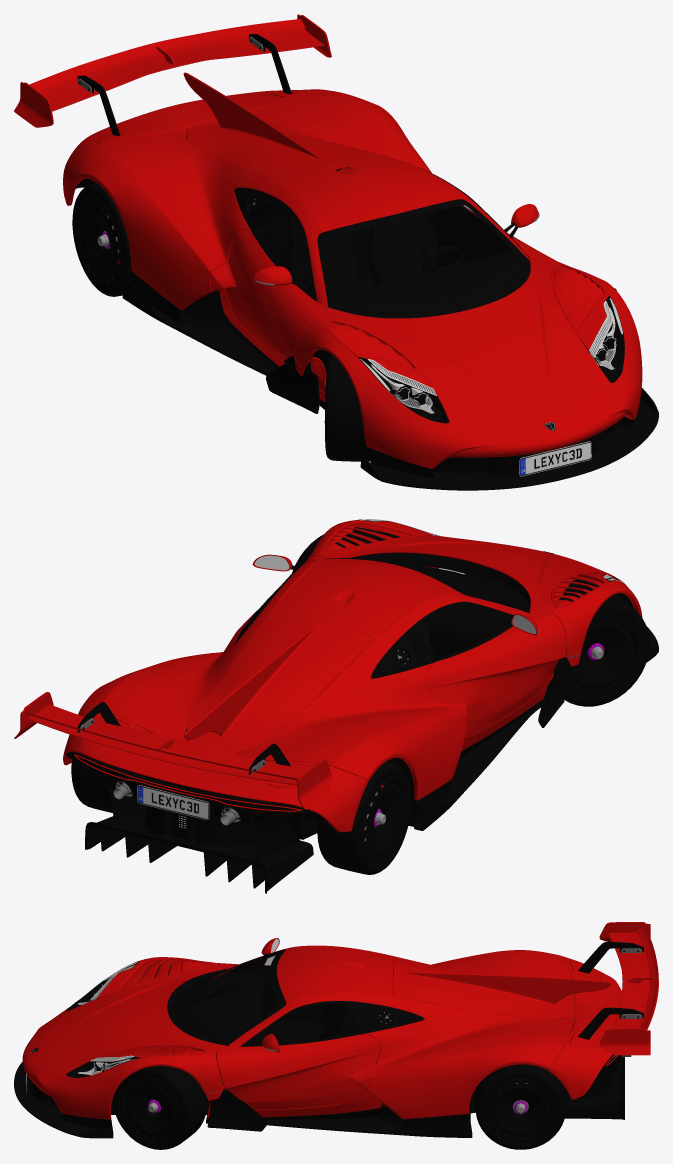
The model's file is rossa-lm.glb.
3 renders of one model, top to bottom at view 1: azimuth 30°, elevation 25°; view 2: azimuth 150°, elevation 25°; view 3: azimuth 270°, elevation 25°, orthographic. The views are drawn at different scales.
Parts seen in each view (by area): view 1: Object_29, Object_9, Object_21, Object_6, Object_42, Object_22, Object_38, Object_18, Object_25, Object_36, Object_2; view 2: Object_29, Object_9, Object_42, Object_38, Object_21, Object_6, Object_25, Object_2, Object_18, Object_26, Object_3, Object_22; view 3: Object_29, Object_9, Object_21, Object_6, Object_38, Object_42, Object_22, Object_18, Object_25, Object_36.
Boxes of the visible parts, left/top/right/bottom form: Object_29: left=14, top=14, right=642, bottom=468; Object_9: left=77, top=34, right=658, bottom=490; Object_21: left=254, top=205, right=624, bottom=415; Object_6: left=258, top=206, right=516, bottom=303; Object_42: left=72, top=183, right=616, bottom=461; Object_22: left=318, top=199, right=612, bottom=402; Object_38: left=76, top=197, right=121, bottom=285; Object_18: left=360, top=298, right=622, bottom=413; Object_25: left=76, top=132, right=622, bottom=472; Object_36: left=358, top=296, right=624, bottom=415; Object_2: left=519, top=441, right=591, bottom=476; Object_29: left=14, top=520, right=642, bottom=832; Object_9: left=65, top=552, right=658, bottom=893; Object_42: left=71, top=534, right=649, bottom=874; Object_38: left=361, top=613, right=640, bottom=864; Object_21: left=74, top=519, right=623, bottom=828; Object_6: left=400, top=564, right=516, bottom=658; Object_25: left=75, top=527, right=633, bottom=839; Object_2: left=137, top=785, right=209, bottom=820; Object_18: left=254, top=519, right=622, bottom=633; Object_26: left=80, top=650, right=578, bottom=825; Object_3: left=74, top=754, right=301, bottom=811; Object_22: left=325, top=558, right=525, bottom=611; Object_29: left=22, top=922, right=658, bottom=1119; Object_9: left=14, top=941, right=643, bottom=1138; Object_21: left=74, top=952, right=618, bottom=1076; Object_6: left=191, top=952, right=360, bottom=1043; Object_38: left=120, top=1076, right=556, bottom=1142; Object_42: left=113, top=972, right=566, bottom=1149; Object_22: left=94, top=949, right=285, bottom=1070; Object_18: left=78, top=938, right=278, bottom=1075; Object_25: left=50, top=964, right=612, bottom=1121; Object_36: left=73, top=961, right=139, bottom=1077.
Size of the model in its own units: 2.57 by 1.27 by 5.61.
21 materials, 1 textured.
